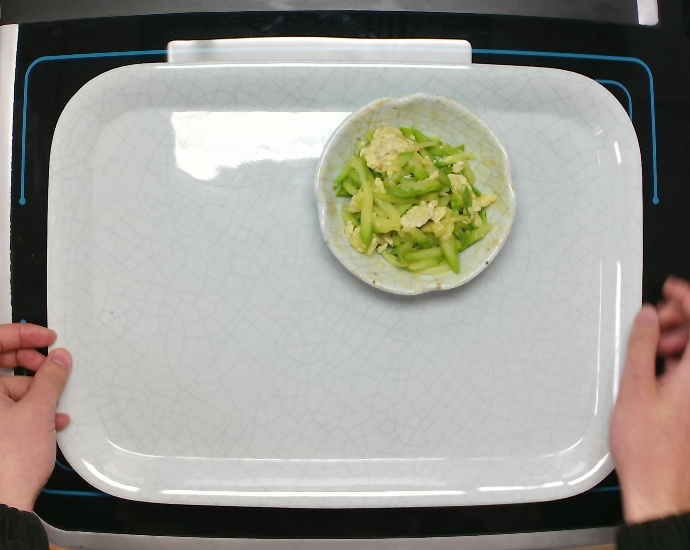JYsf-Ao_Yuan_Wan: (304, 85, 526, 312)
